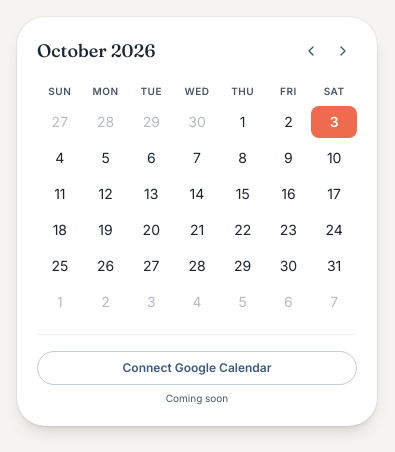
it: CalendarPanel › navigates to the next month
Click the button named "Next month" at (343, 51), box [329,37,357,65]
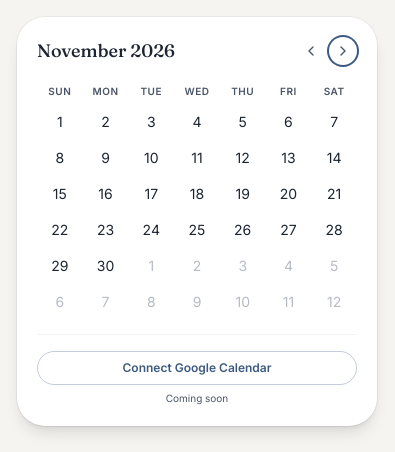
Expected: the text "November 2026" is shown, [37,37,175,65]
